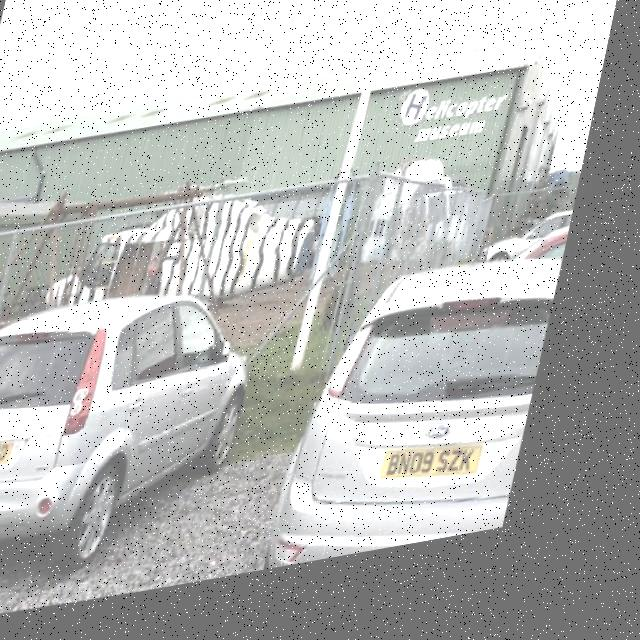license_plate: (0, 436, 37, 477)
